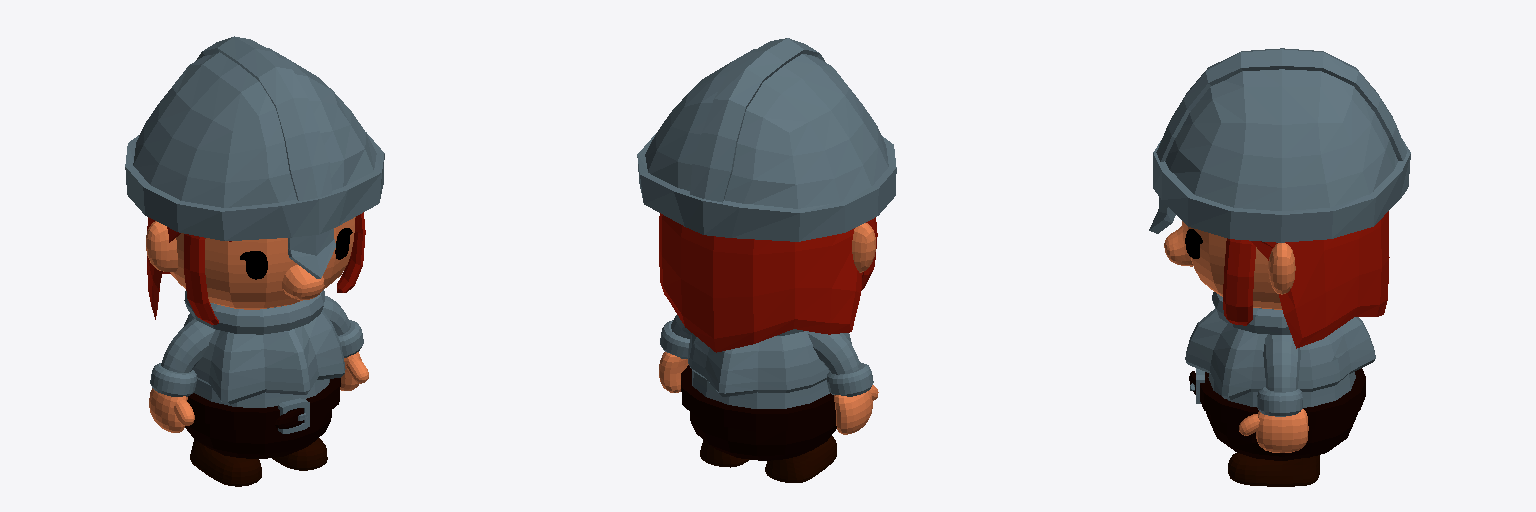
Rendered from Knight3final.obj.
3 renders of one model, left to right at view 1: azimuth 30°, elevation 25°; view 2: azimuth 150°, elevation 25°; view 3: azimuth 270°, elevation 25°, orthographic.
Parts seen in each view (by area): view 1: Knight3_Head, Knight3_Body, Knight3_Right_Arm, Knight3_Left_Arm, Knight3_Right_Foot, Knight3_Left_Foot; view 2: Knight3_Head, Knight3_Body, Knight3_Right_Arm, Knight3_Left_Arm, Knight3_Right_Foot, Knight3_Left_Foot; view 3: Knight3_Head, Knight3_Body, Knight3_Left_Arm, Knight3_Left_Foot.
Boxes of the visible parts, x1,y1,x2,y2 form: Knight3_Head: [125, 36, 384, 324]; Knight3_Body: [183, 290, 345, 458]; Knight3_Right_Arm: [149, 319, 214, 432]; Knight3_Left_Arm: [323, 296, 368, 390]; Knight3_Right_Foot: [190, 439, 261, 486]; Knight3_Left_Foot: [272, 438, 327, 470]; Knight3_Head: [637, 38, 896, 352]; Knight3_Body: [681, 329, 851, 460]; Knight3_Right_Arm: [807, 331, 878, 434]; Knight3_Left_Arm: [659, 315, 691, 392]; Knight3_Right_Foot: [765, 436, 836, 482]; Knight3_Left_Foot: [700, 440, 749, 467]; Knight3_Head: [1149, 48, 1410, 348]; Knight3_Body: [1185, 292, 1375, 460]; Knight3_Left_Arm: [1239, 334, 1308, 452]; Knight3_Left_Foot: [1228, 453, 1319, 486].
Size of the model in its own units: 1.86 by 3.28 by 1.89.